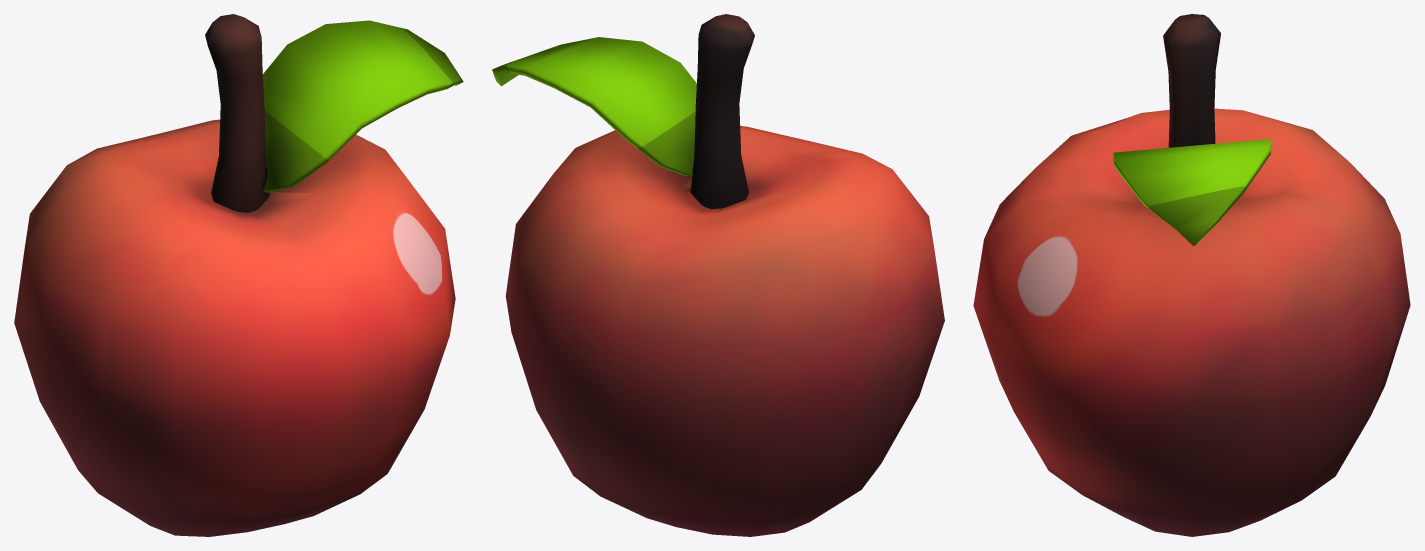
Rendered from geo_CollectibleApple.fbx.
3 renders of one model, left to right at view 1: azimuth 30°, elevation 25°; view 2: azimuth 150°, elevation 25°; view 3: azimuth 270°, elevation 25°, orthographic.
Parts seen in each view (by area): view 1: geo_CollectibleApple; view 2: geo_CollectibleApple; view 3: geo_CollectibleApple.
Boxes of the visible parts, x1=… form: geo_CollectibleApple: x1=14, y1=14, x2=463, y2=536; geo_CollectibleApple: x1=492, y1=14, x2=944, y2=536; geo_CollectibleApple: x1=973, y1=14, x2=1410, y2=536.
Bounding box in the file's own units: 70.48 × 77.71 × 64.3.
